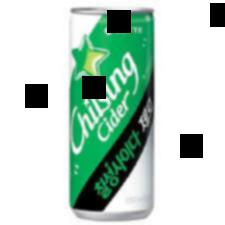chilsungcider_zero: (67, 6, 160, 222)
